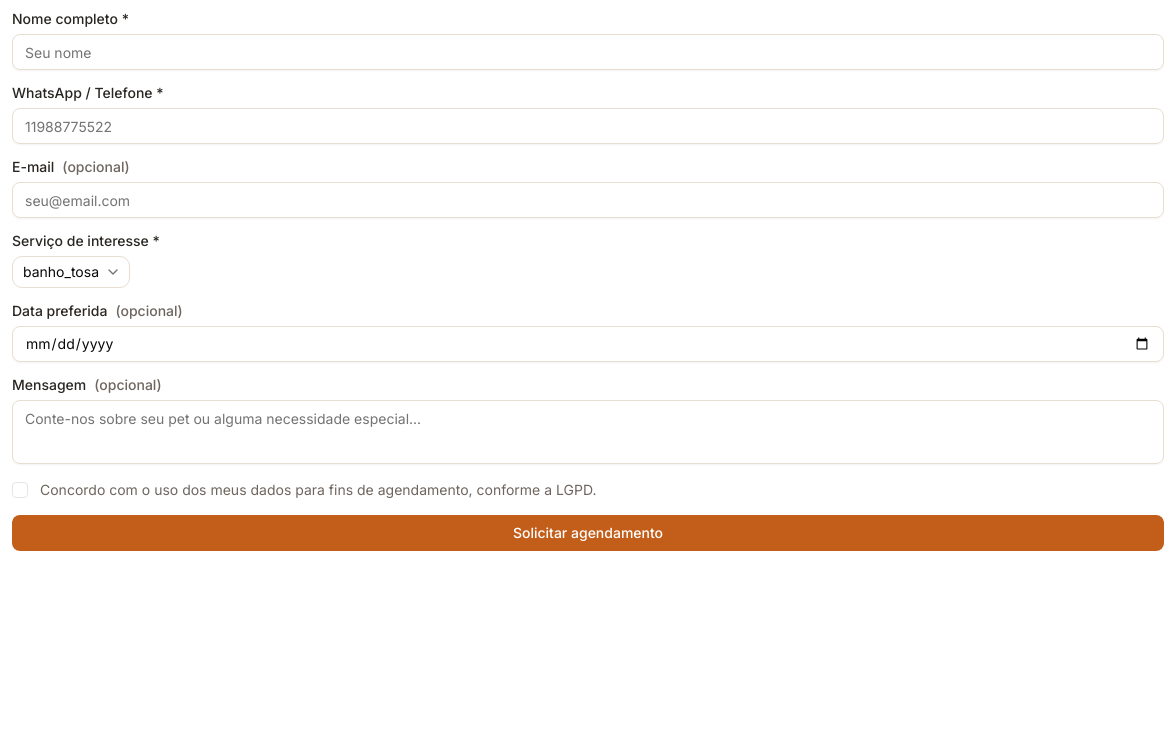
Test: BookingForm › shows validation error for name shorter than 3 chars
The width and height of the screenshot is (1176, 732).
Type "Jo" into the field with placeholder "Seu nome" at (588, 52), box [12,34,1164,70]
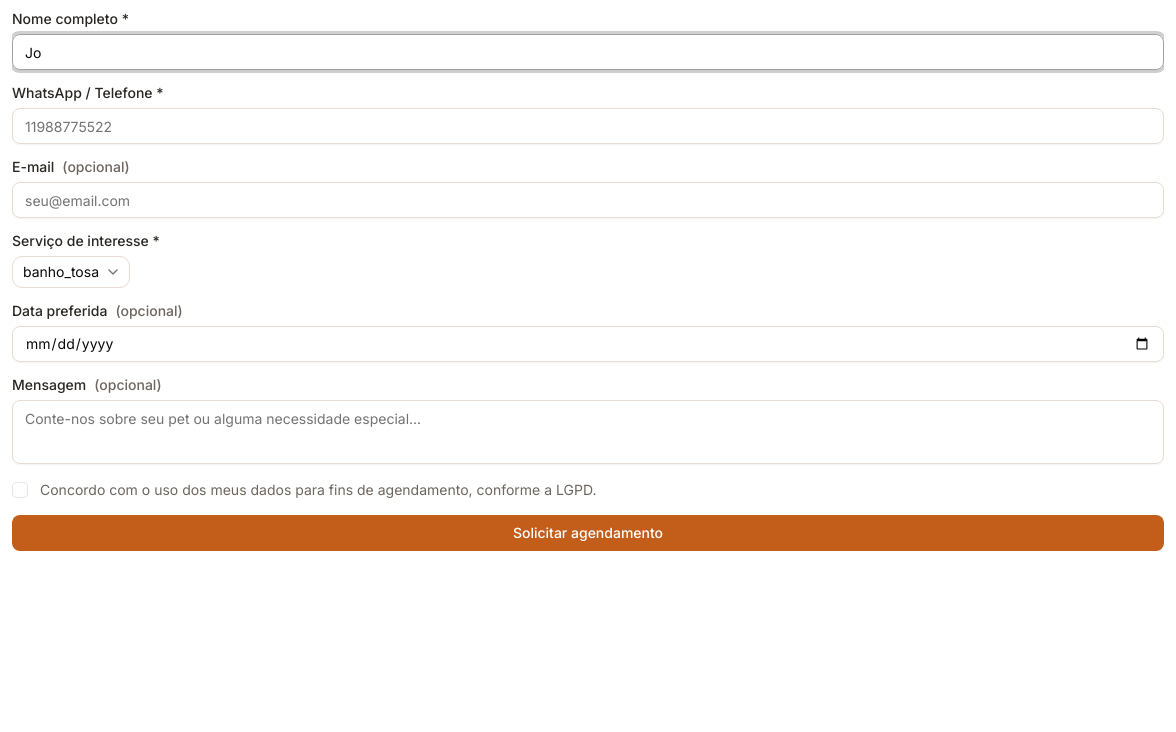
Submit the form named "solicitar agendamento"
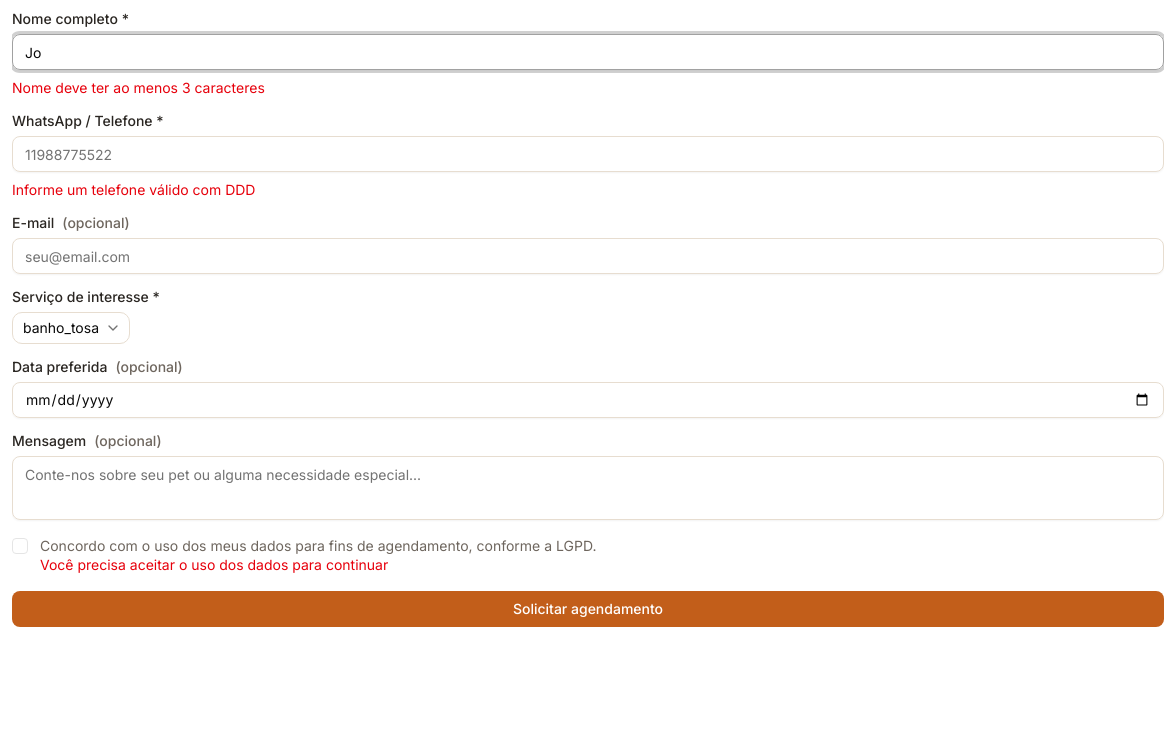
Check: the text "Nome deve ter ao menos 3 caracteres" is shown, box [12,79,265,96]
